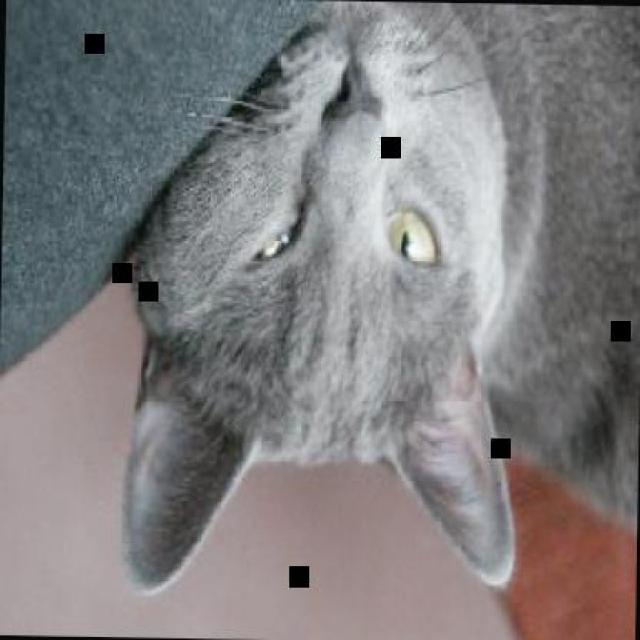cat: (117, 0, 638, 609)
